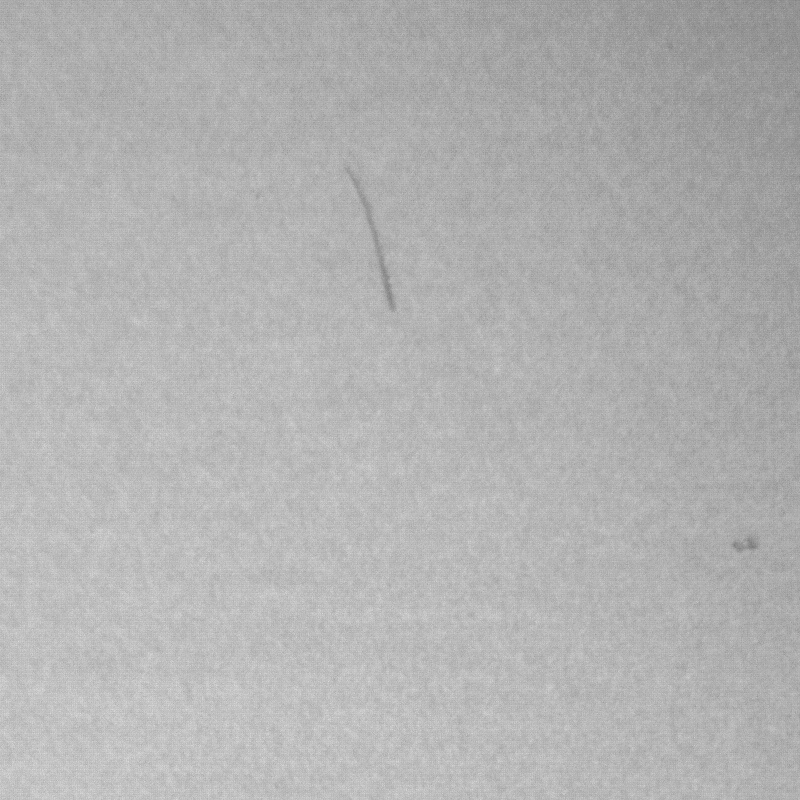defect: (350, 166, 407, 324), (734, 532, 766, 563)
